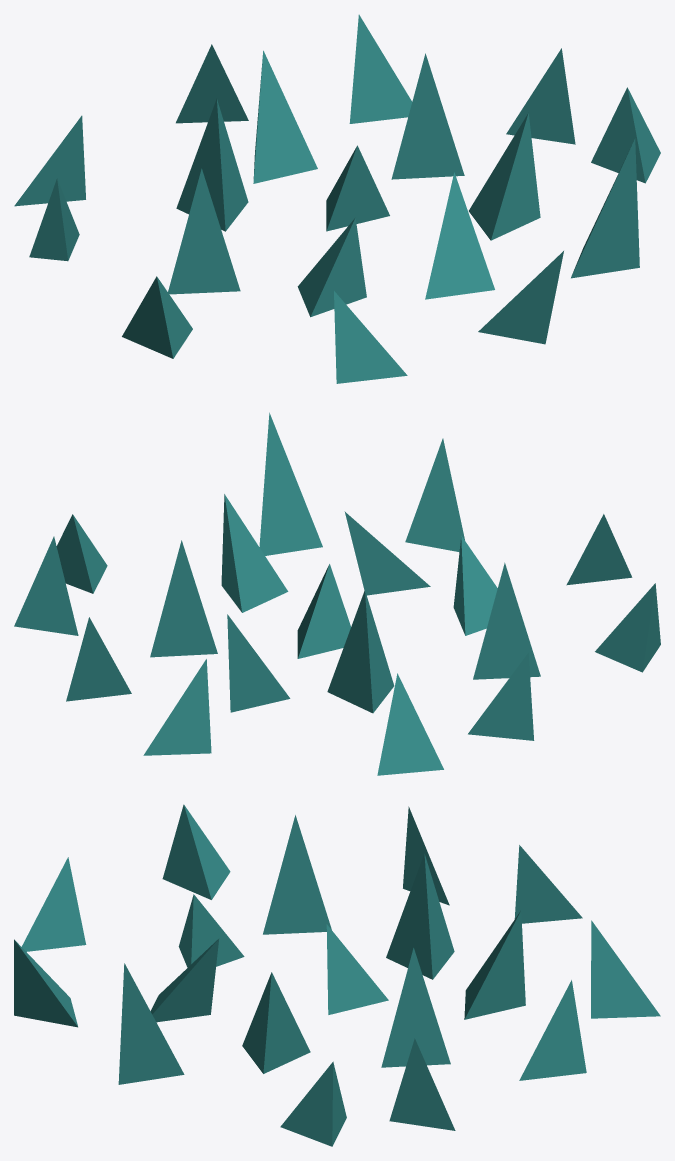
The model's file is Grass_3_Blue.fbx.
3 renders of one model, top to bottom at view 1: azimuth 30°, elevation 25°; view 2: azimuth 150°, elevation 25°; view 3: azimuth 270°, elevation 25°, orthographic. The views are drawn at different scales.
Visible parts, largest first — view 1: Grass_3_Blue; view 2: Grass_3_Blue; view 3: Grass_3_Blue.
Boxes of the visible parts, bbox=[...] form: Grass_3_Blue: bbox=[14, 14, 660, 383]; Grass_3_Blue: bbox=[14, 412, 660, 775]; Grass_3_Blue: bbox=[14, 804, 660, 1146].
Size of the model in its own units: 32.13 by 6.62 by 31.92.
